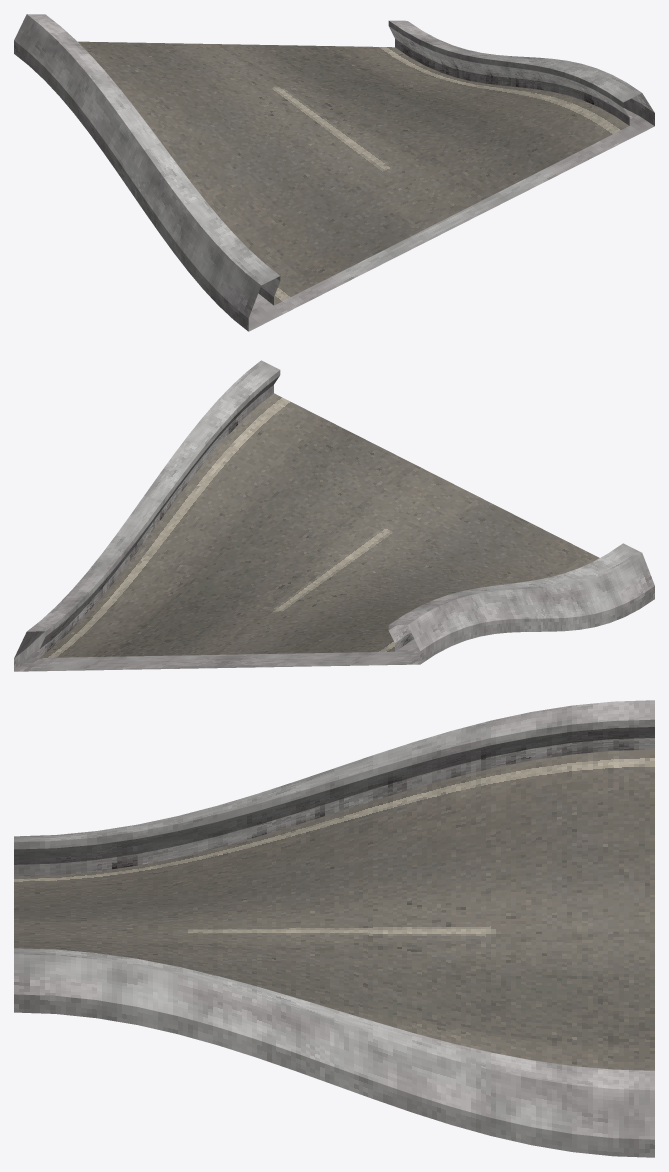
Rendered from straight1.glb.
3 views of the same model, one above another, from view 1: azimuth 30°, elevation 25°; view 2: azimuth 150°, elevation 25°; view 3: azimuth 270°, elevation 25° (orthographic). The views are drawn at different scales.
Parts seen in each view (by area): view 1: road-Straight-HalfBankedLeft-HalfBankedRight-Even-Center-Siz; view 2: road-Straight-HalfBankedLeft-HalfBankedRight-Even-Center-Siz; view 3: road-Straight-HalfBankedLeft-HalfBankedRight-Even-Center-Siz.
Boxes of the visible parts, x1,y1,x2,y2 form: road-Straight-HalfBankedLeft-HalfBankedRight-Even-Center-Siz: (14,14,654,331); road-Straight-HalfBankedLeft-HalfBankedRight-Even-Center-Siz: (14,360,654,671); road-Straight-HalfBankedLeft-HalfBankedRight-Even-Center-Siz: (14,700,654,1157).
Bounding box in the file's own units: 1 × 0.3359 × 1.
2 materials, 2 textured.
